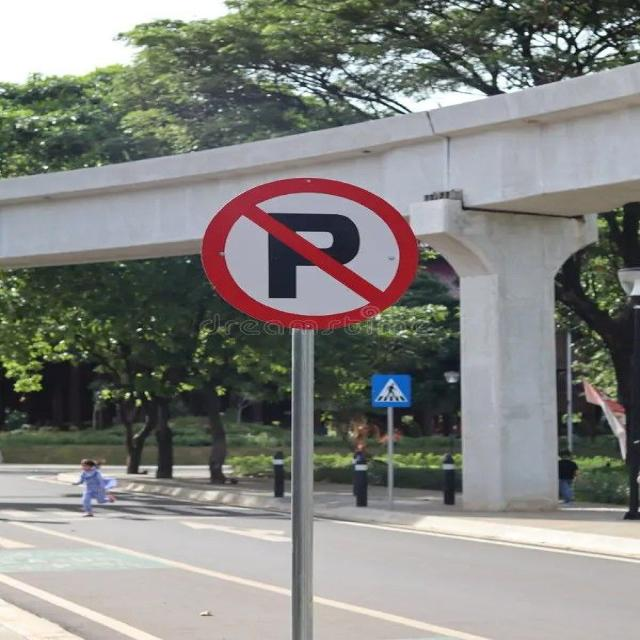No_parking: (200, 177, 424, 334)
